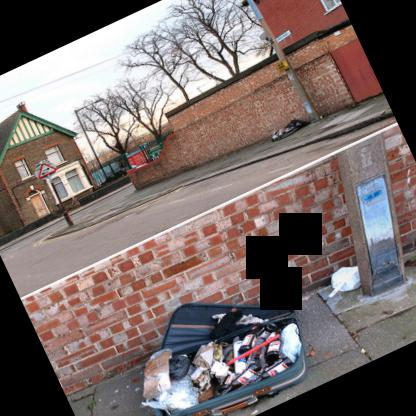suitcase: (143, 304, 308, 416)
